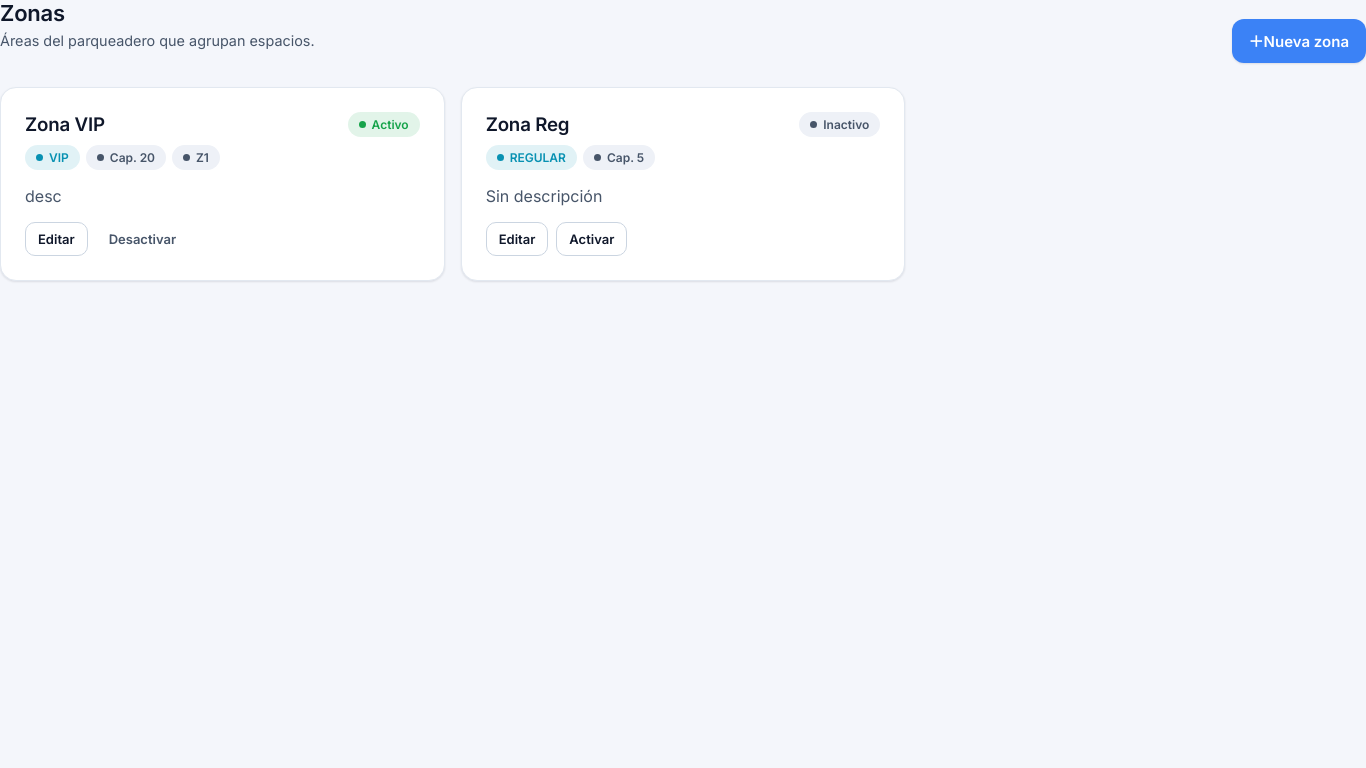
Test case: ZonasPage › valida nombre corto al crear
The image size is (1366, 768).
Expected: the heading "Zona VIP" is shown, [25,113,105,136]
Click the button "＋Nueva zona" at (1299, 41), box [1232,19,1365,63]
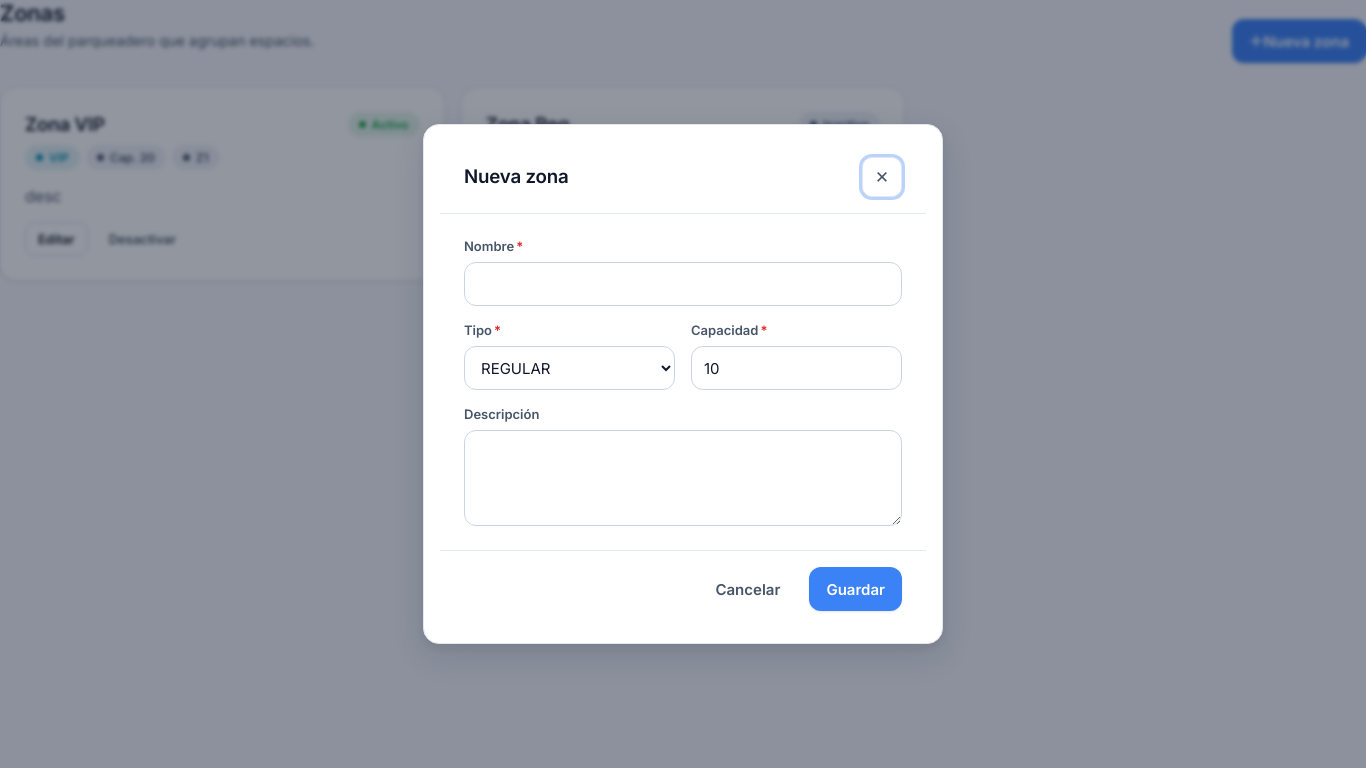
Type "ab" into the field labelled "Nombre*" at (683, 284), box [464,262,902,306]
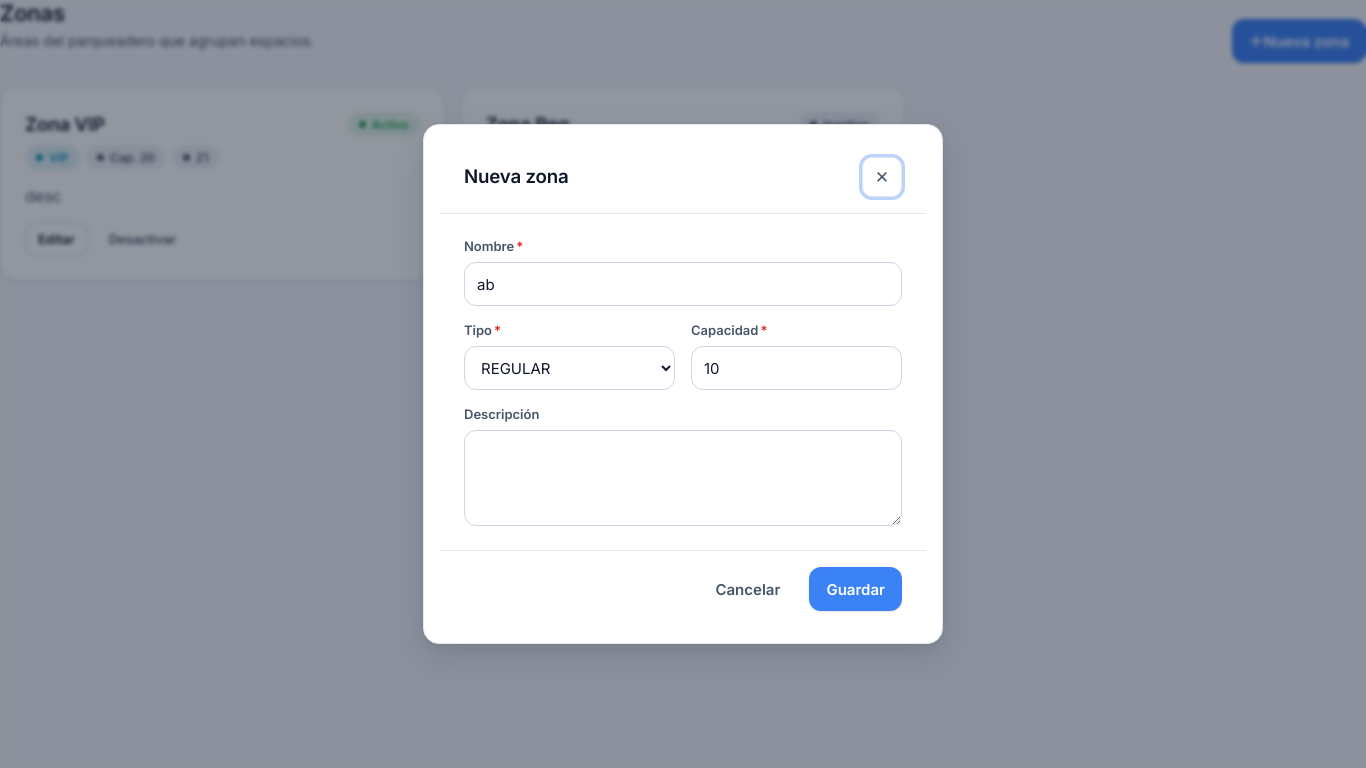
Click the button "Guardar" at (856, 589), box [809,567,902,611]
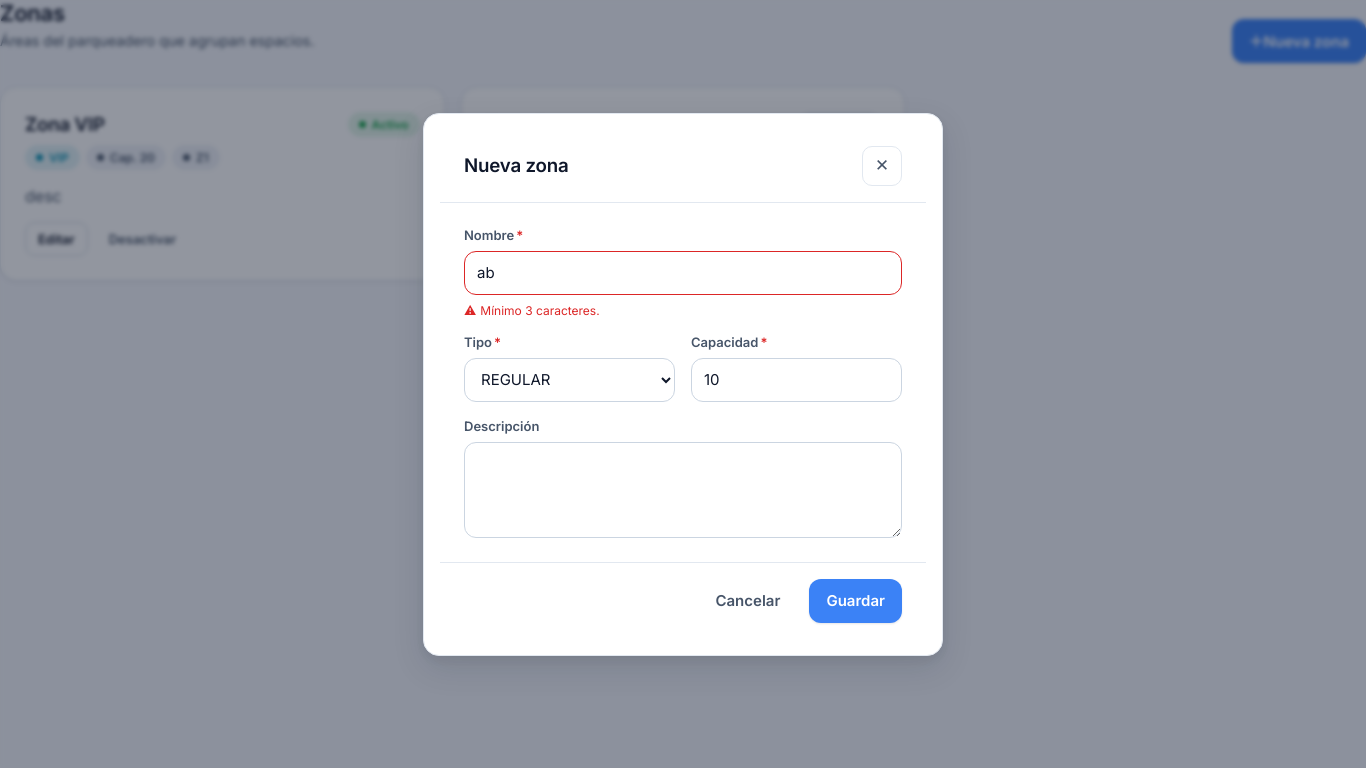
Expected: the text "Mínimo 3 caracteres." is shown, [480,302,600,318]
